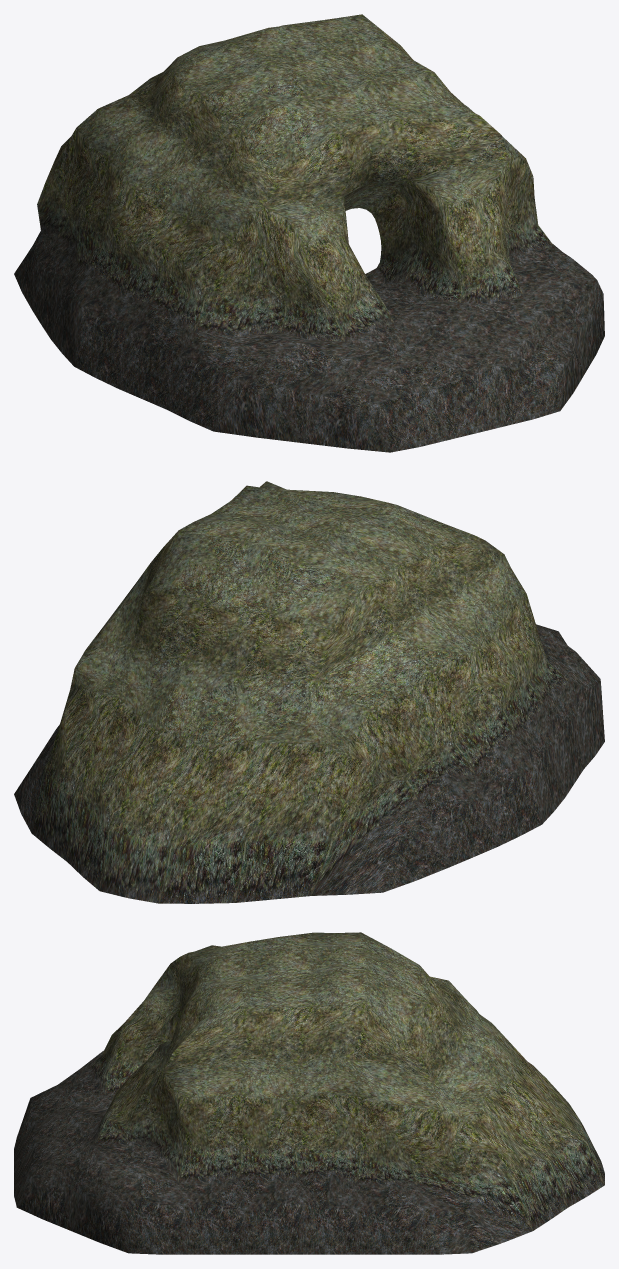
The model's file is thm_all_cave_flatland_s01_damprock_r0_mesh_l1.fbx.
3 views of the same model, one above another, from view 1: azimuth 30°, elevation 25°; view 2: azimuth 150°, elevation 25°; view 3: azimuth 270°, elevation 25° (orthographic). The views are drawn at different scales.
Visible parts, largest first — view 1: mesh_node; view 2: mesh_node; view 3: mesh_node.
Boxes of the visible parts, bbox=[...] form: mesh_node: bbox=[14, 14, 604, 452]; mesh_node: bbox=[14, 481, 604, 903]; mesh_node: bbox=[14, 932, 604, 1254].
Size of the model in its own units: 56.42 by 31.43 by 78.78.
